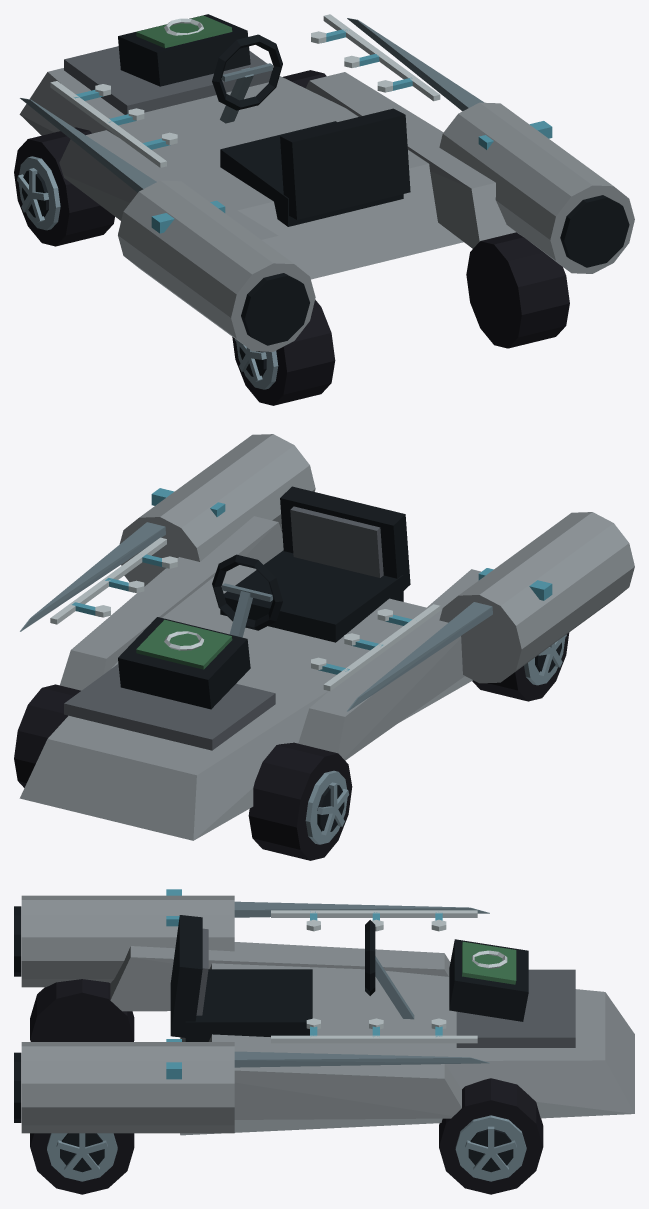
Rendered from kart.glb.
3 renders of one model, top to bottom at view 1: azimuth 30°, elevation 25°; view 2: azimuth 150°, elevation 25°; view 3: azimuth 270°, elevation 25°, orthographic. The views are drawn at different scales.
Visible parts, largest first — view 1: identity-speeder-speeder-long-cowl-and-stern-turbines, identity-speeder-driver-cockpit, wheel-rear-right, wheel-front-left, identity-speeder-motif-scanner, wheel-rear-left, identity-speeder-motif-swords, identity-speeder-motif-circuit; view 2: identity-speeder-speeder-long-cowl-and-stern-turbines, identity-speeder-driver-cockpit, wheel-front-left, identity-speeder-motif-scanner, identity-speeder-motif-swords, identity-speeder-motif-circuit, wheel-front-right, wheel-rear-left; view 3: identity-speeder-speeder-long-cowl-and-stern-turbines, identity-speeder-driver-cockpit, wheel-front-right, identity-speeder-motif-scanner, wheel-rear-left, identity-speeder-motif-swords, wheel-rear-right, identity-speeder-motif-circuit.
Boxes of the visible parts, <box> form: identity-speeder-speeder-long-cowl-and-stern-turbines: <box>19,46,634,351</box>; identity-speeder-driver-cockpit: <box>212,34,410,226</box>; wheel-rear-right: <box>466,232,569,348</box>; wheel-front-left: <box>14,127,114,246</box>; identity-speeder-motif-scanner: <box>118,14,250,86</box>; wheel-rear-left: <box>232,299,335,405</box>; identity-speeder-motif-swords: <box>20,18,552,233</box>; identity-speeder-motif-circuit: <box>50,14,440,167</box>; identity-speeder-speeder-long-cowl-and-stern-turbines: <box>19,434,634,840</box>; identity-speeder-driver-cockpit: <box>212,486,410,642</box>; wheel-front-left: <box>248,742,352,860</box>; identity-speeder-motif-scanner: <box>118,617,250,709</box>; identity-speeder-motif-swords: <box>20,488,552,711</box>; identity-speeder-motif-circuit: <box>50,537,440,691</box>; wheel-front-right: <box>14,684,80,787</box>; wheel-rear-left: <box>472,632,569,701</box>; identity-speeder-speeder-long-cowl-and-stern-turbines: <box>14,895,634,1135</box>; identity-speeder-driver-cockpit: <box>170,915,414,1041</box>; wheel-front-right: <box>439,1078,543,1194</box>; identity-speeder-motif-scanner: <box>449,939,528,1021</box>; wheel-rear-left: <box>30,979,134,1041</box>; identity-speeder-motif-swords: <box>166,889,489,1079</box>; wheel-rear-right: <box>30,1133,134,1194</box>; identity-speeder-motif-circuit: <box>271,910,477,1043</box>.
Bounding box in the file's own units: 2.1 × 1.09 × 2.98.
